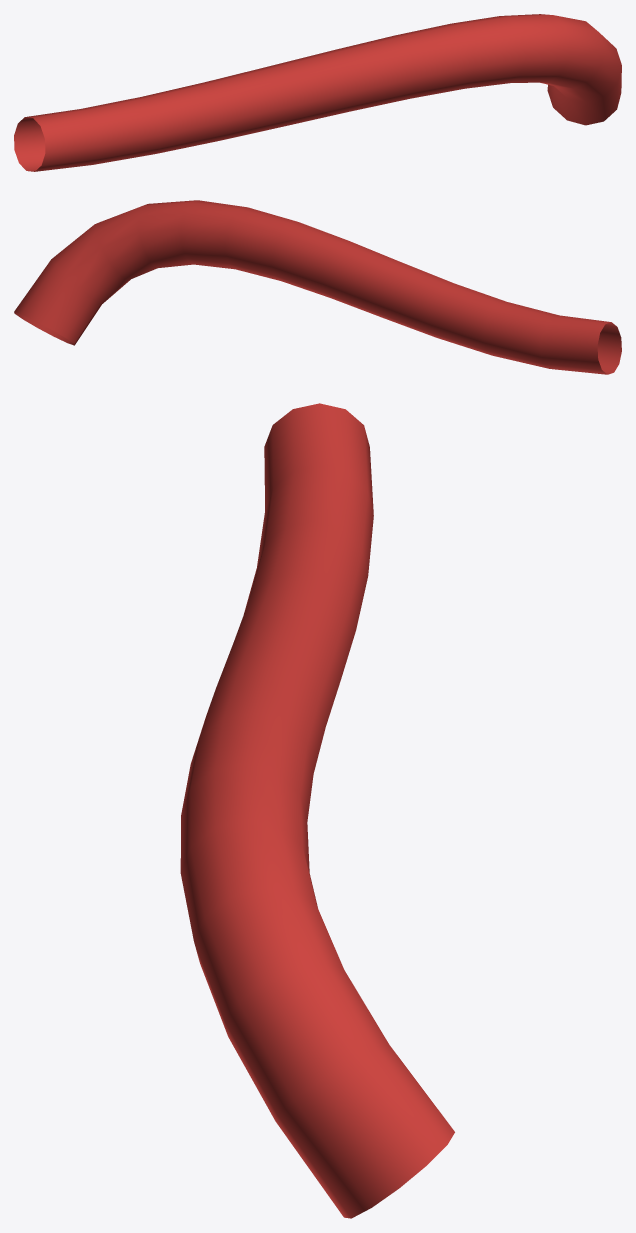
The picture shows the model from 3 angles, top to bottom: view 1: azimuth 30°, elevation 25°; view 2: azimuth 150°, elevation 25°; view 3: azimuth 270°, elevation 25°; orthographic projection. The views are drawn at different scales.
Parts seen in each view (by area): view 1: 左侧髂腰动脉脊支; view 2: 左侧髂腰动脉脊支; view 3: 左侧髂腰动脉脊支.
Part boxes in pixels (x1,y1,x2,y2): 左侧髂腰动脉脊支: (14,14,621,171); 左侧髂腰动脉脊支: (14,200,621,374); 左侧髂腰动脉脊支: (180,403,454,1218).
Size of the model in its own units: 0.0335 by 0.00827 by 0.00687.
